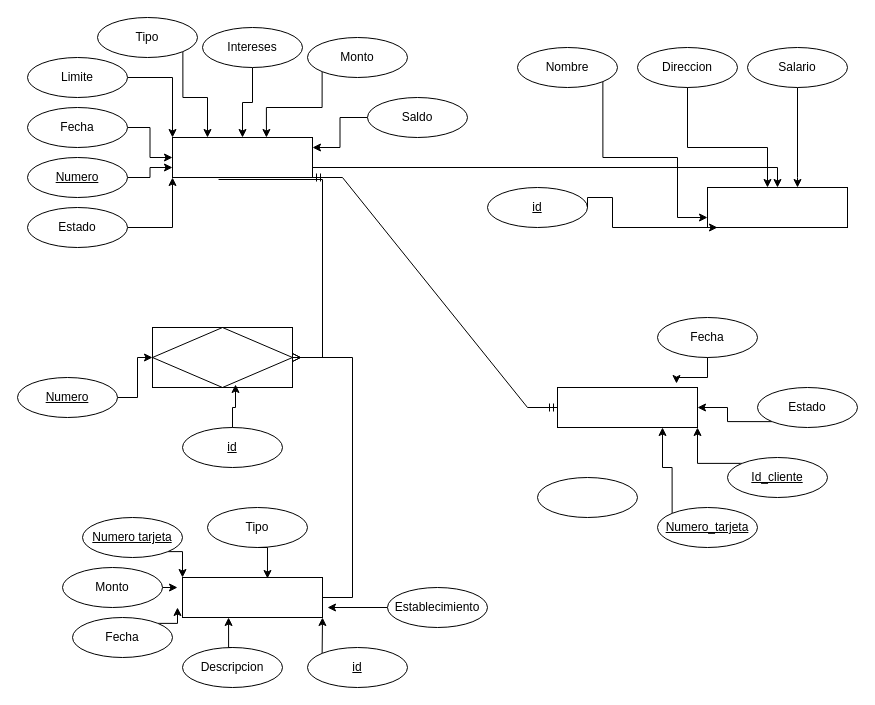
Some shapes in this 875 by 705 pixel diagram are drawn without their labels. Here are the shapes that lost their labels. From the top down, the centre of each, then its label:
At pixel 242 157: "Tarjeta".
At pixel 777 207: "Cliente".
At pixel 222 357: "Tarjeta-Movimiento".
At pixel 627 407: "Solicitud".
At pixel 587 497: "Numero_solicitud".
At pixel 252 597: "Movimiento".
